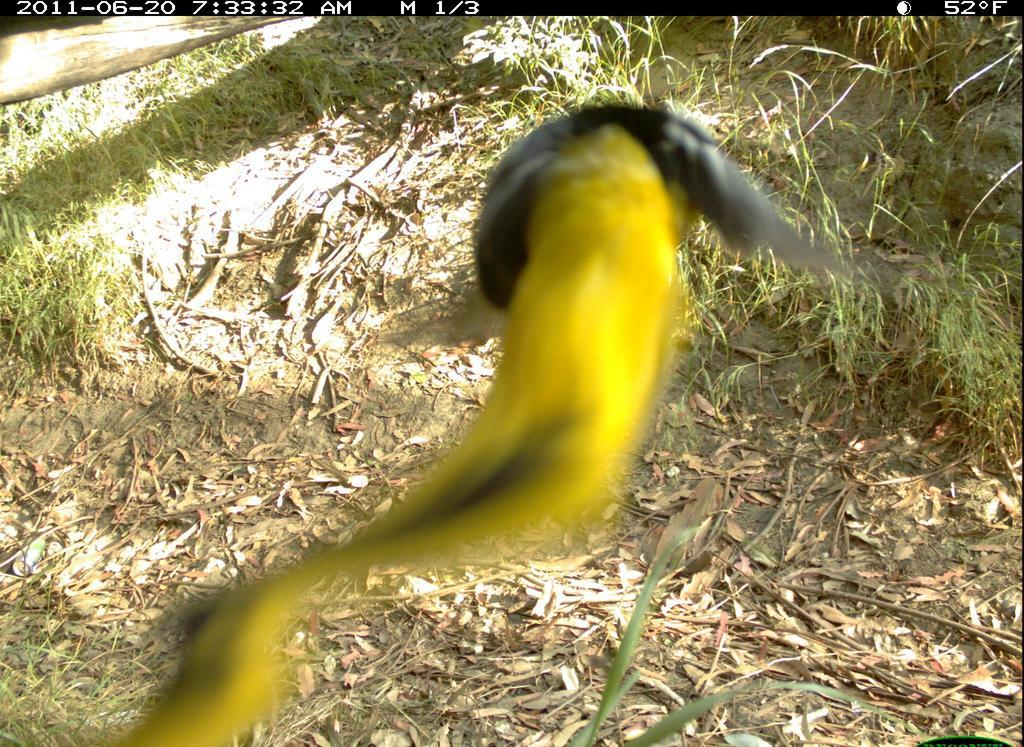bird: (137, 88, 859, 747)
